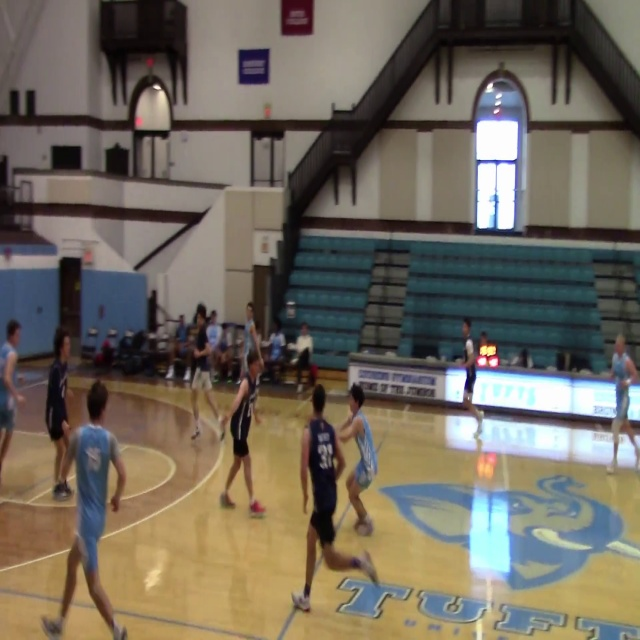Basketball: (355, 514, 373, 536)
